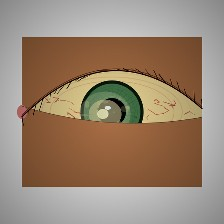corneal_ulcer: (78, 93, 132, 136)
